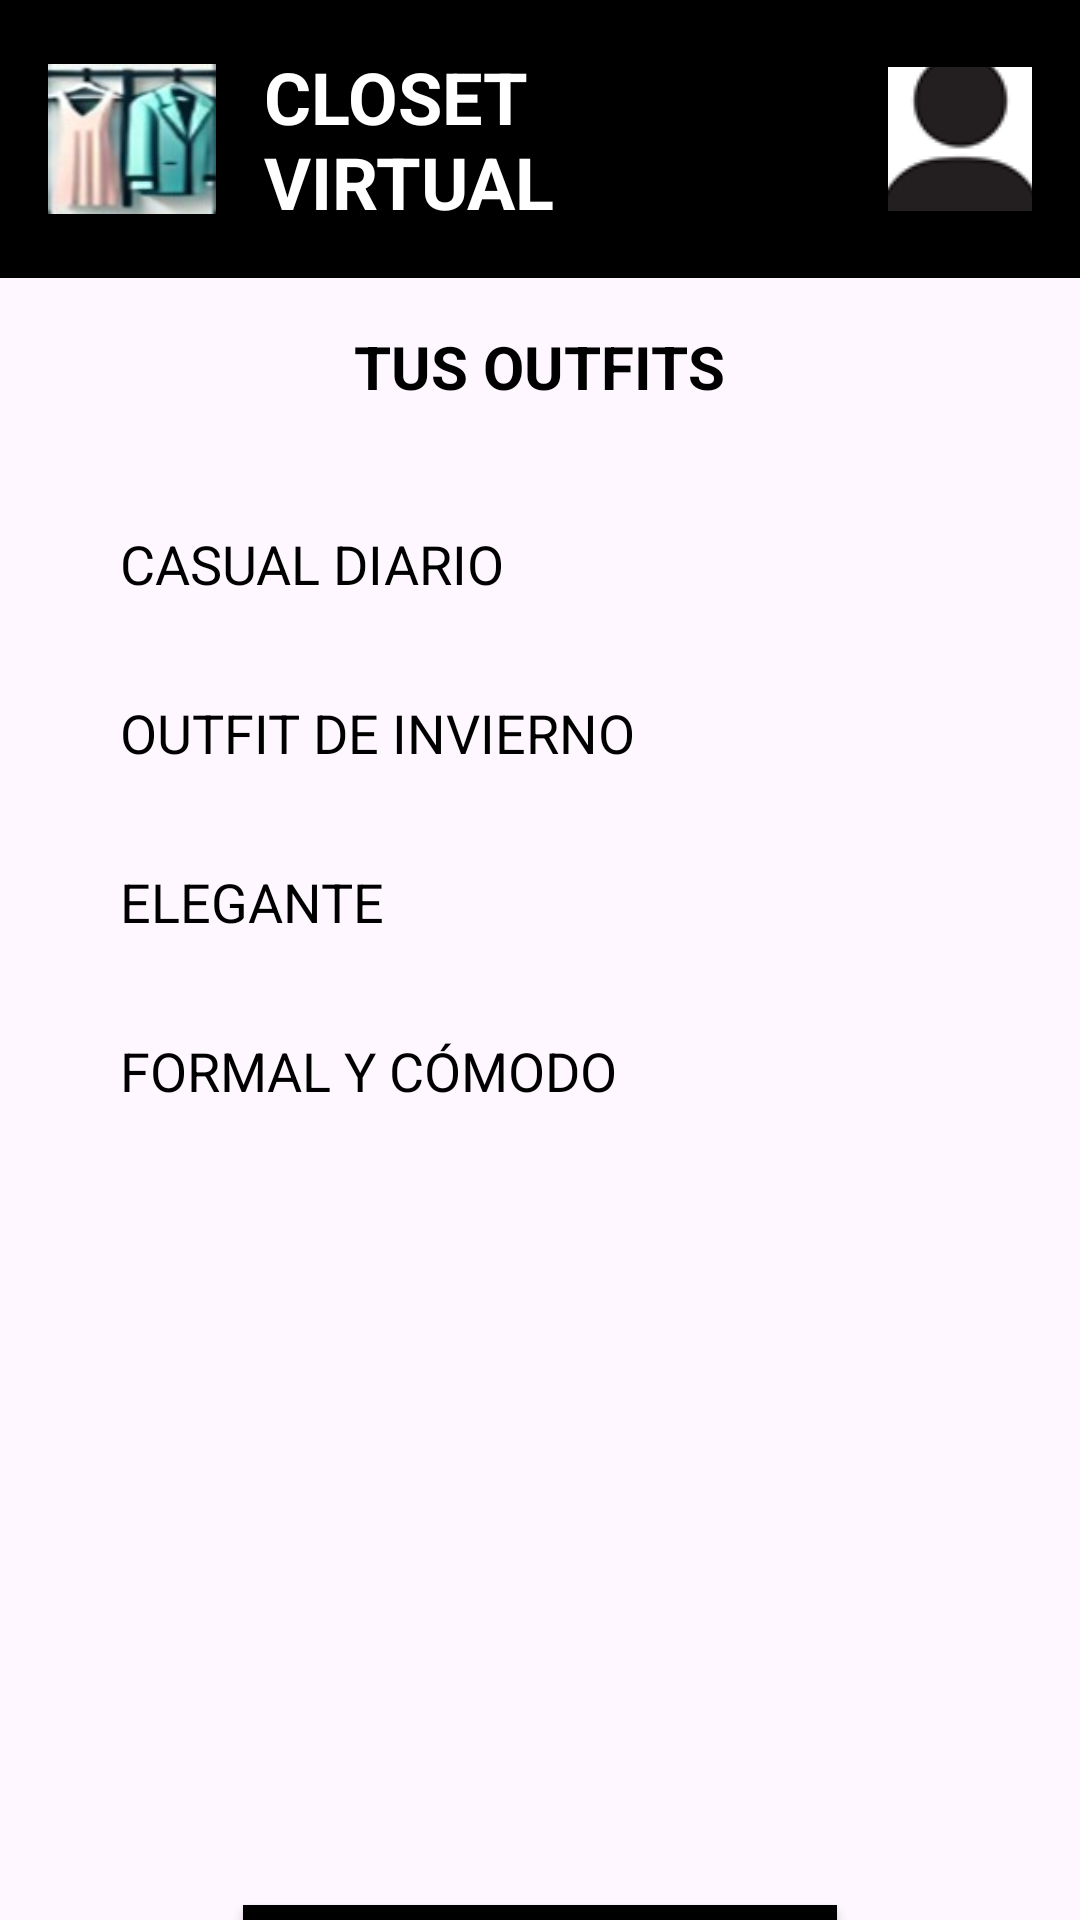

Icons on this 1080w x 1920h Android screen, each with the point to tap as (x,y):
Usuario: (960,139)
